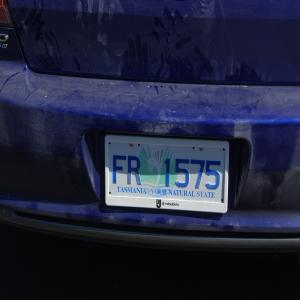Vehicle-registration-plate: (102, 136, 231, 226)
